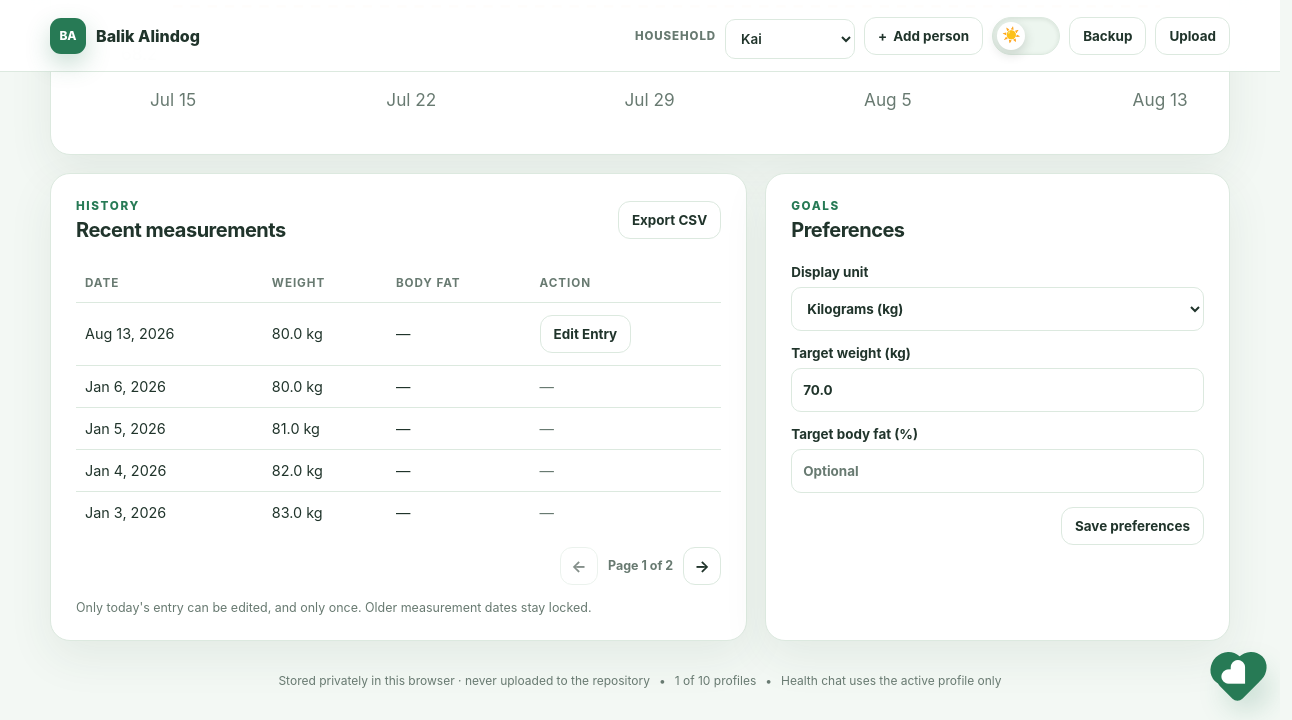
Scenario: Balik Alindog Tracker › only allows editing today and pages history five entries at a time
(page scrolled)
Expected: the number of buttons "Edit Entry" is 1, [540,315,631,353]
Step 1. Click the button named "show older entries" → x=702, y=566, box [683,547,721,585]
(page scrolled)
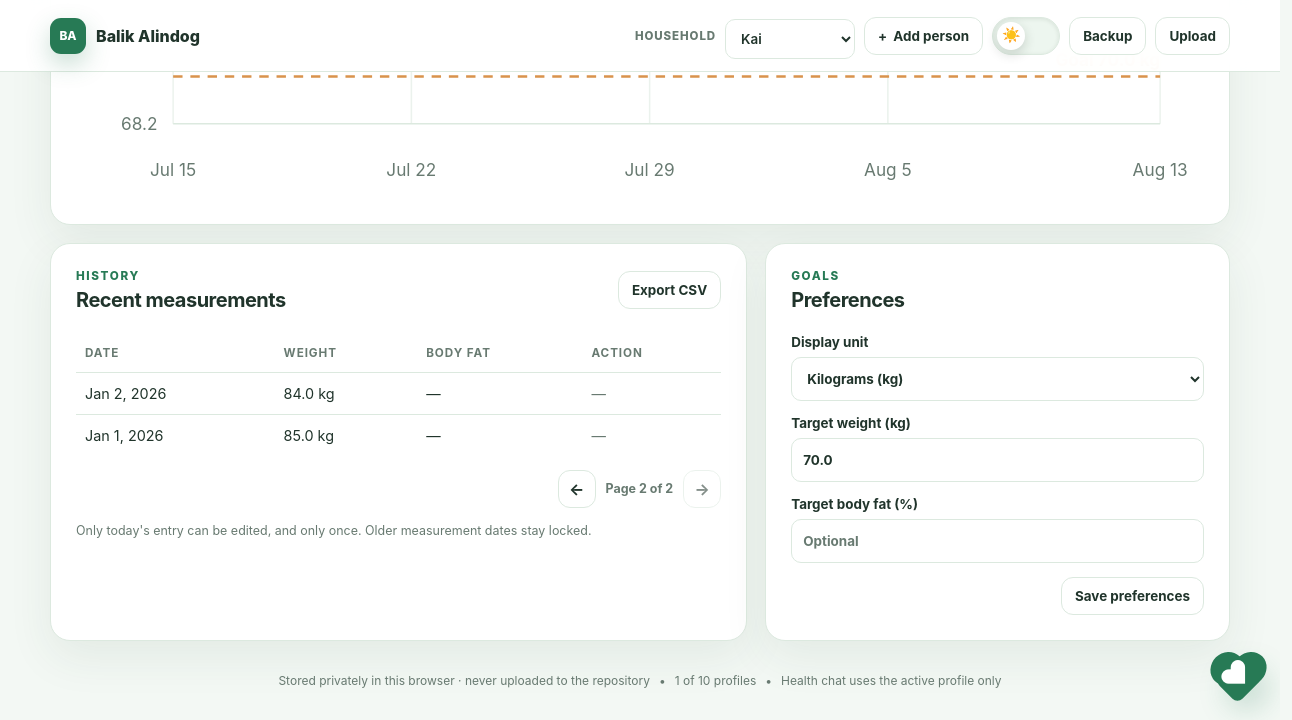
Expected: the button "Edit Entry" is gone
Expected: the text "Page 2 of 2" is shown, [606,481,673,496]
